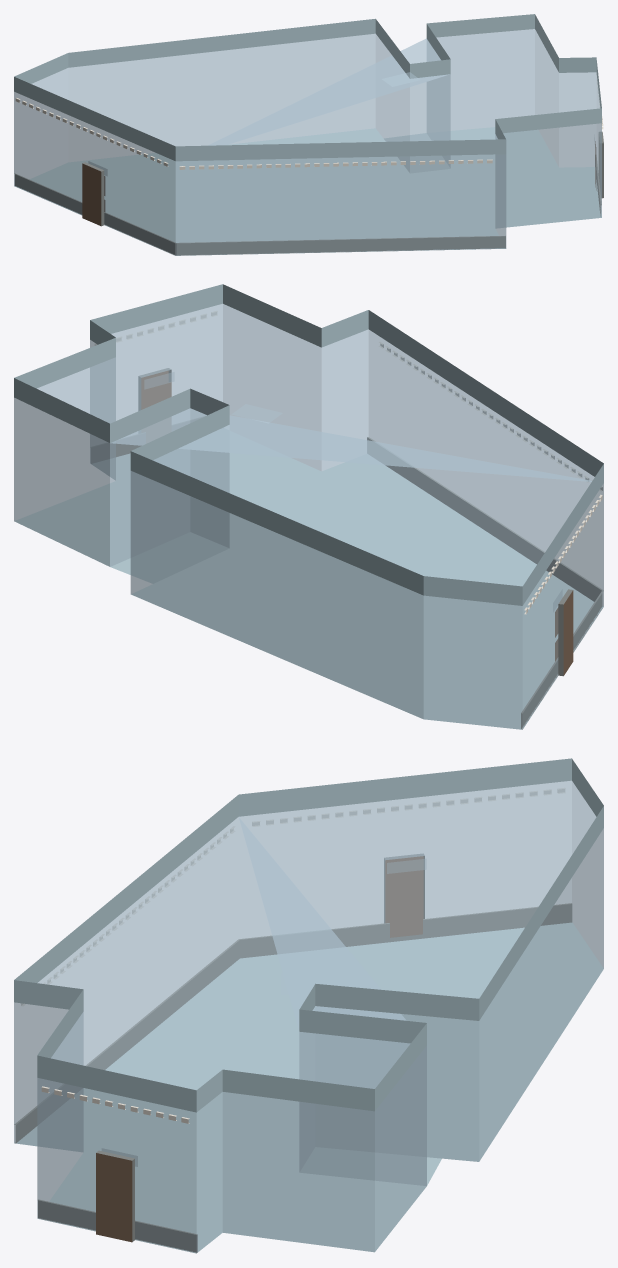
3 views of the same model, one above another, from view 1: azimuth 30°, elevation 25°; view 2: azimuth 150°, elevation 25°; view 3: azimuth 270°, elevation 25° (orthographic). The views are drawn at different scales.
Parts seen in each view (by area): view 1: W-39/1; view 2: W-39/1; view 3: W-39/1.
Part boxes in pixels (bbox=[...]): W-39/1: bbox=[14, 14, 603, 255]; W-39/1: bbox=[14, 284, 603, 729]; W-39/1: bbox=[14, 758, 603, 1253].
Size of the model in its own units: 19.21 by 4.4 by 14.41.
